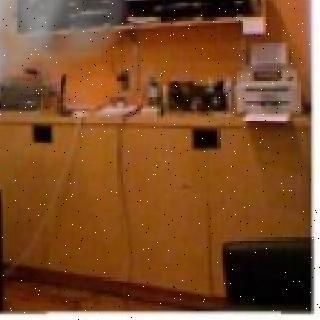smoke: (0, 0, 157, 80)
